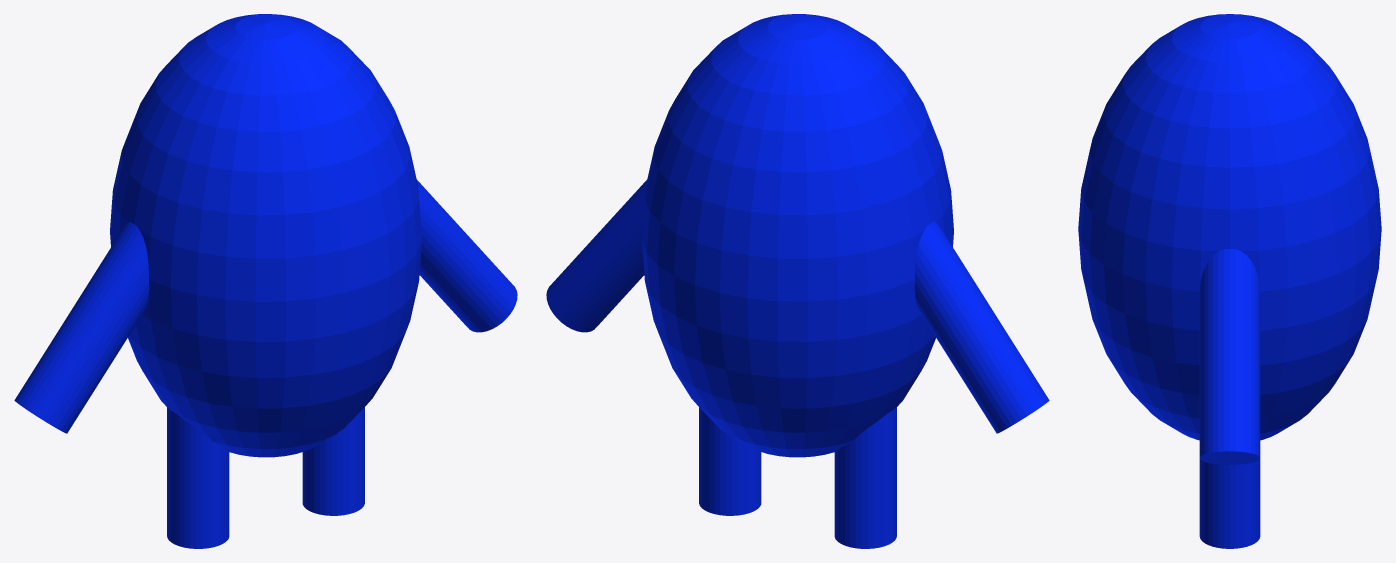
Rendered from sci-fi_2.glb.
3 views of the same model, side by side, from view 1: azimuth 30°, elevation 25°; view 2: azimuth 150°, elevation 25°; view 3: azimuth 270°, elevation 25° (orthographic). The views are drawn at different scales.
Parts seen in each view (by area): view 1: Sphere, Cylinder.003, Cylinder.002, Cylinder.001, Cylinder; view 2: Sphere, Cylinder.003, Cylinder.002, Cylinder.001, Cylinder; view 3: Sphere, Cylinder.002, Cylinder.
Part boxes in pixels (bbox=[...]): Sphere: bbox=[110, 14, 421, 457]; Cylinder.003: bbox=[14, 222, 149, 433]; Cylinder.002: bbox=[416, 179, 517, 332]; Cylinder.001: bbox=[167, 407, 229, 548]; Cylinder: bbox=[302, 407, 364, 515]; Sphere: bbox=[642, 14, 953, 457]; Cylinder.003: bbox=[914, 222, 1049, 433]; Cylinder.002: bbox=[546, 179, 647, 332]; Cylinder.001: bbox=[834, 407, 896, 548]; Cylinder: bbox=[699, 407, 761, 515]; Sphere: bbox=[1078, 14, 1381, 440]; Cylinder.002: bbox=[1199, 249, 1260, 464]; Cylinder: bbox=[1199, 459, 1260, 548].
Bounding box in the file's own units: 1.82 × 1.75 × 1.
